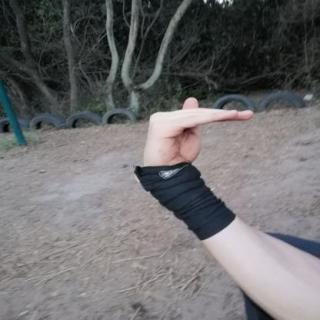KHAA: (127, 90, 264, 180)
